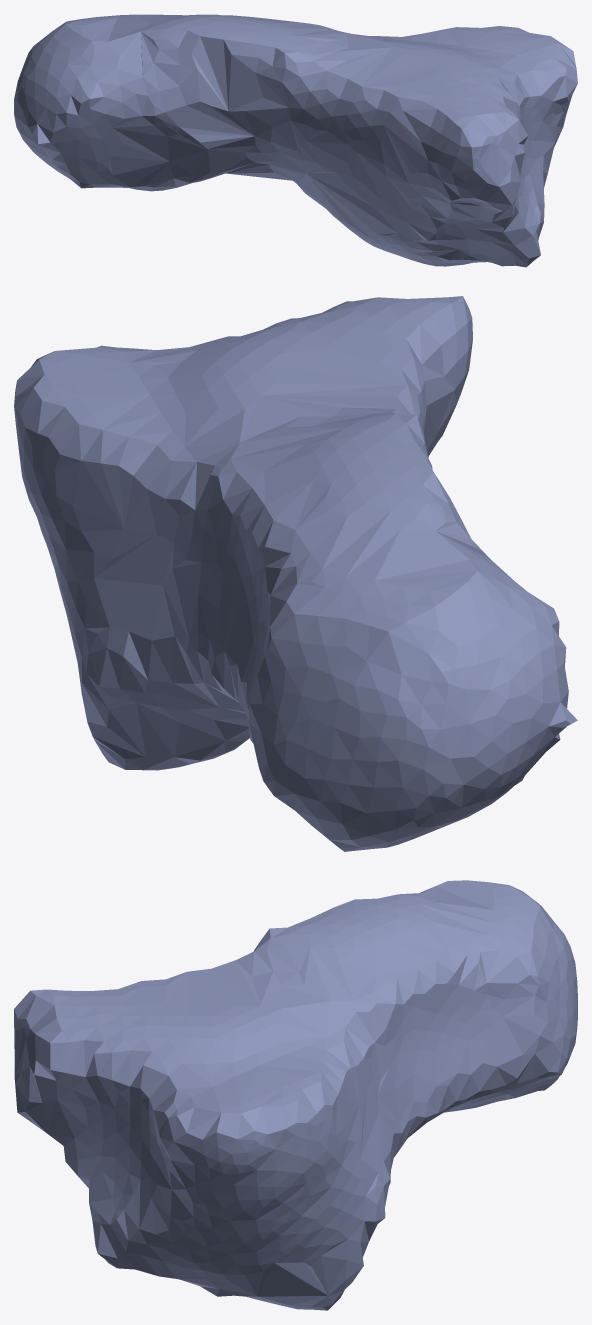
File: Model_304_RH__Ventral_lateral_thalamic_nucleus__medial_part_(VLM).obj
3 views of the same model, one above another, from view 1: azimuth 30°, elevation 25°; view 2: azimuth 150°, elevation 25°; view 3: azimuth 270°, elevation 25° (orthographic). The views are drawn at different scales.
Size of the model in its own units: 2.51 by 1.38 by 2.4.
